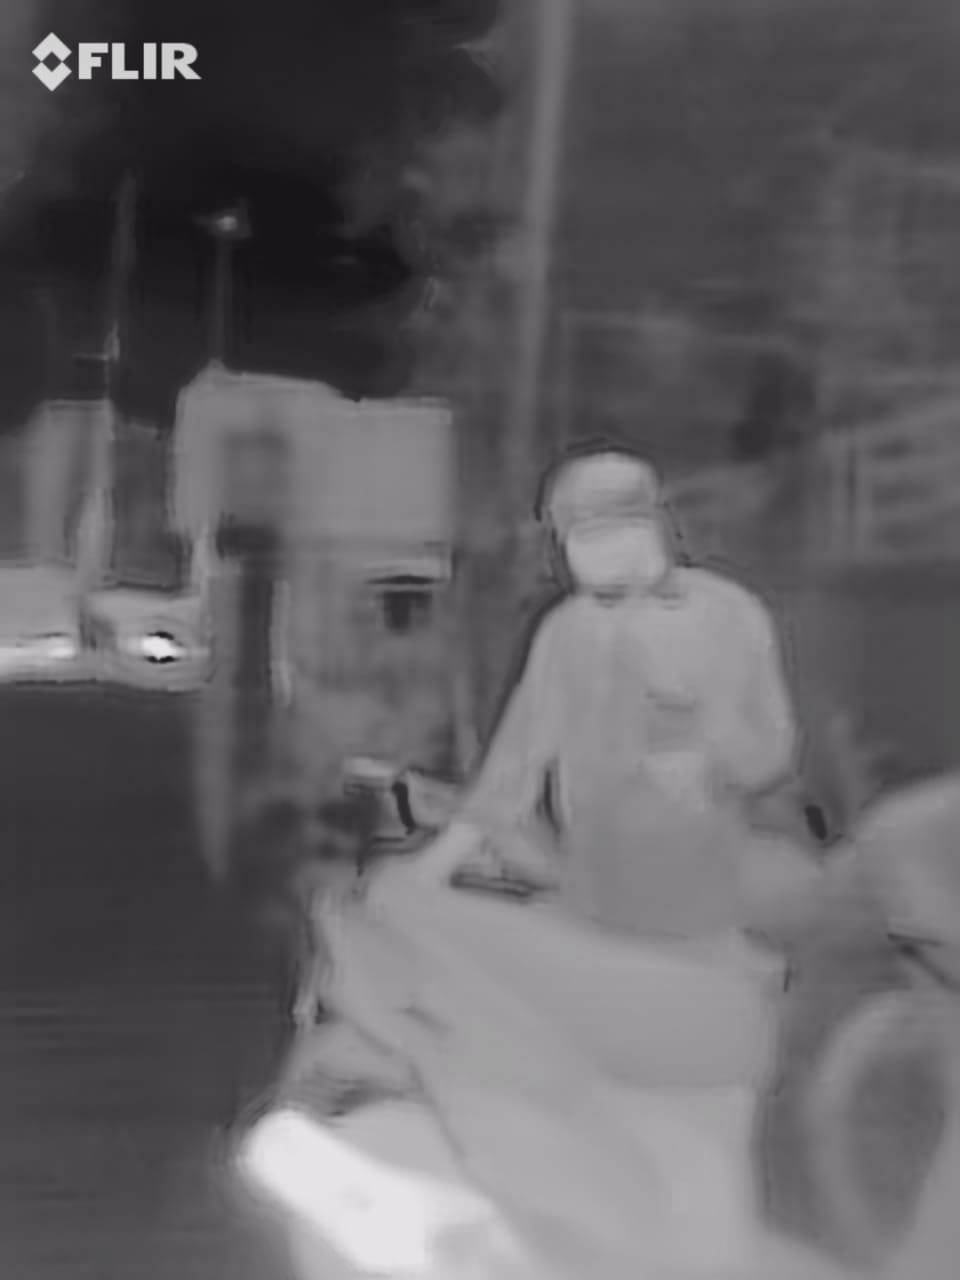head: (540, 442, 686, 613)
